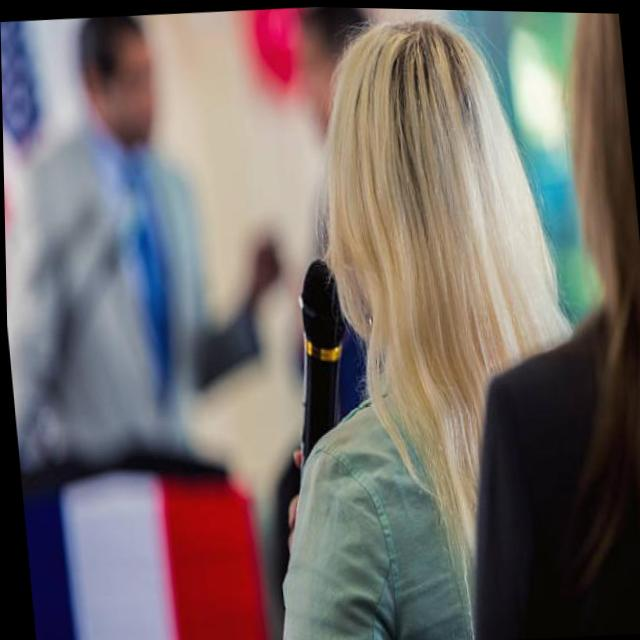no helmet: (312, 5, 574, 508)
